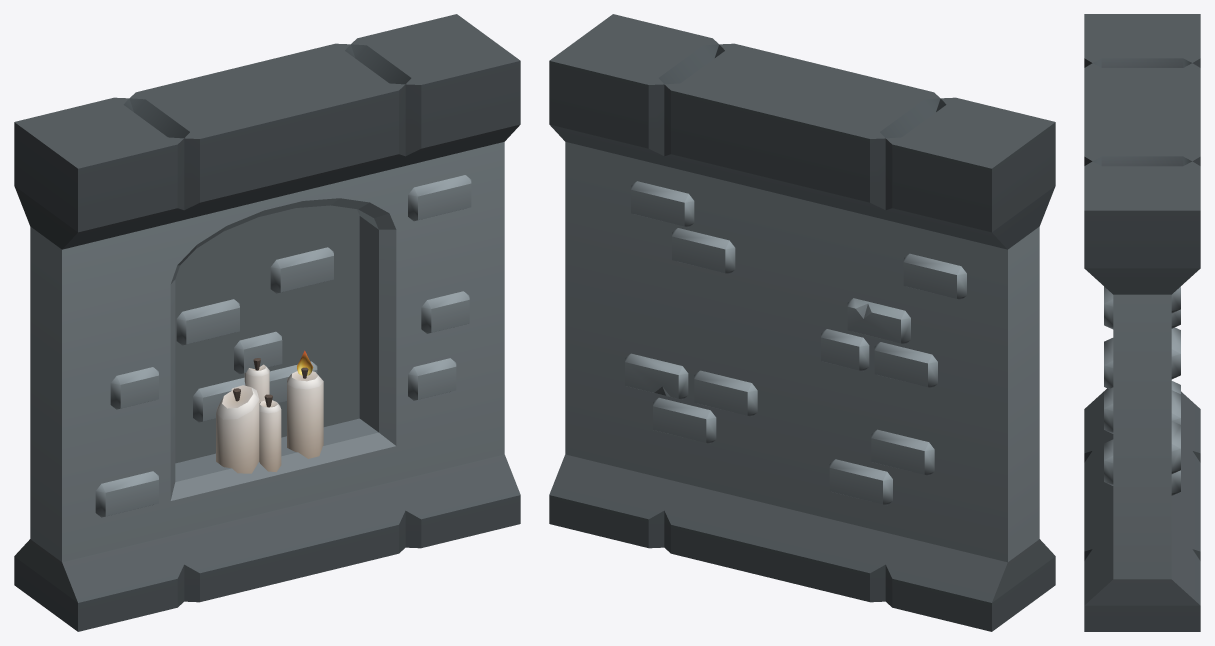
Rendered from wall_alcove_C.glb.
3 views of the same model, side by side, from view 1: azimuth 30°, elevation 25°; view 2: azimuth 150°, elevation 25°; view 3: azimuth 270°, elevation 25° (orthographic). The views are drawn at different scales.
Visible parts, largest first — view 1: Item; view 2: Item; view 3: Item.
Part boxes in pixels (left/top/right/bottom): Item: left=14, top=14, right=520, bottom=631; Item: left=549, top=14, right=1055, bottom=631; Item: left=1084, top=14, right=1200, bottom=631.
Bounding box in the file's own units: 4 × 4 × 1.
1 material, 1 textured.
